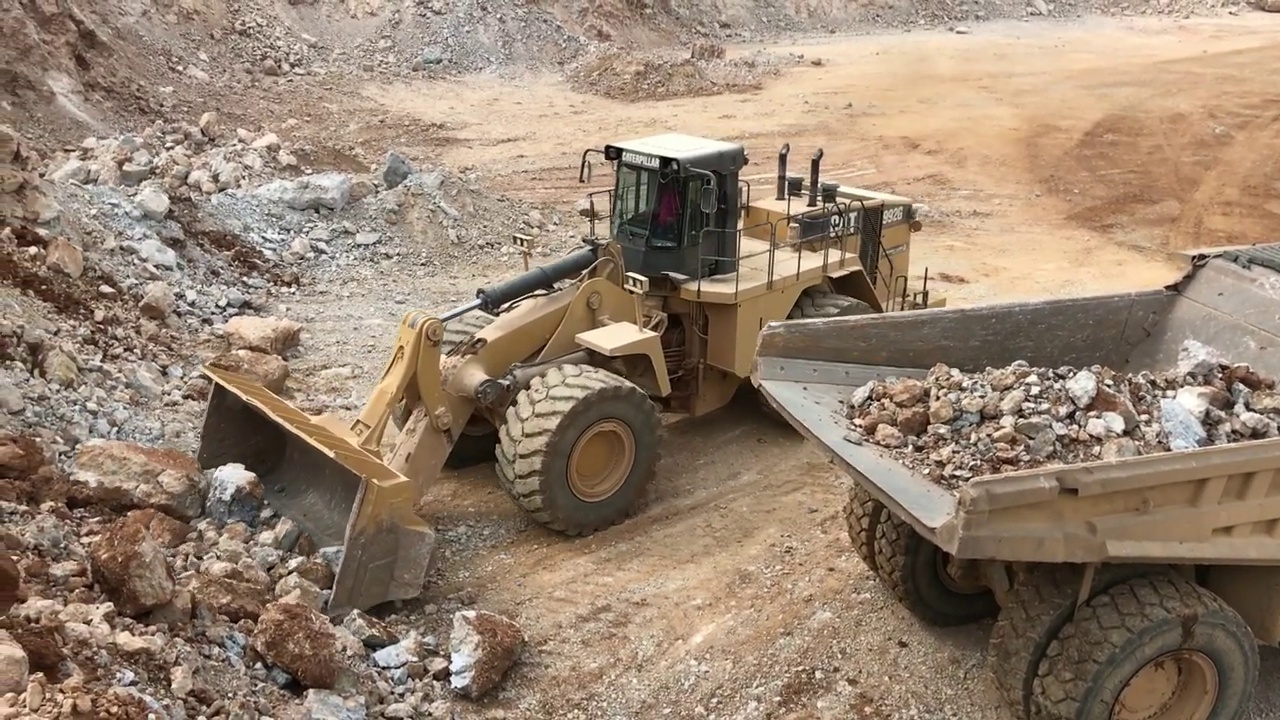dumper: (747, 245, 1280, 716)
wheel loader: (183, 128, 954, 620)
